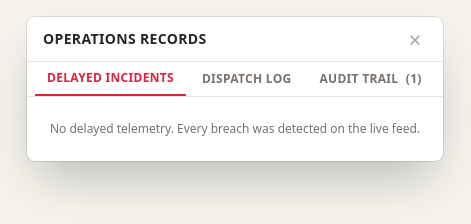
it: OperationsDrawer › switches to the audit trail tab
Click the tab "Audit trail (1)": click(371, 79) left=308, top=62, right=434, bottom=96
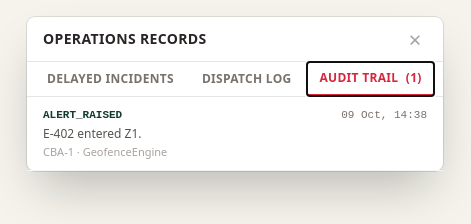
Now the text "ALERT_RAISED" is shown, box left=43, top=107, right=122, bottom=124
Now the text "E-402 entered Z1." is shown, box left=43, top=124, right=142, bottom=142
